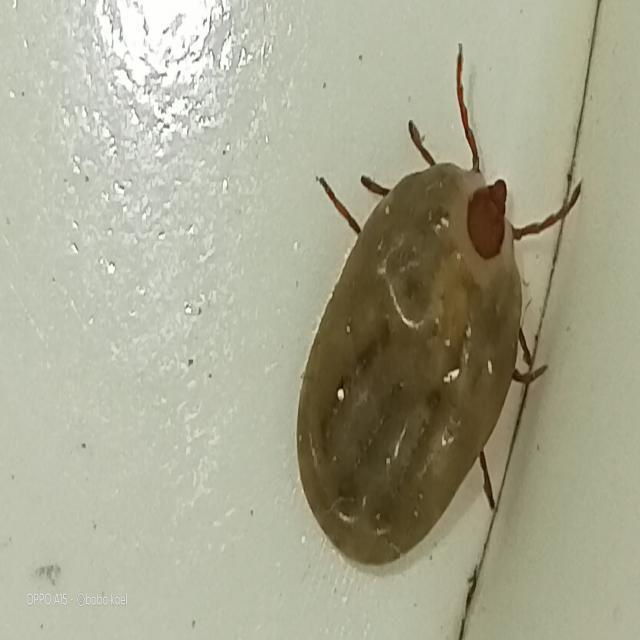Rhipicephalus Sanguineus-F-Fed: (297, 43, 585, 569)
